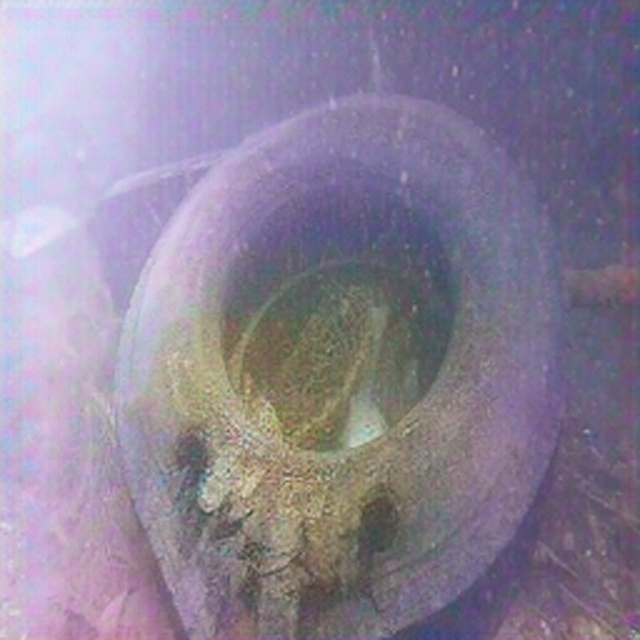mine: (114, 90, 569, 639), (275, 286, 368, 429)
